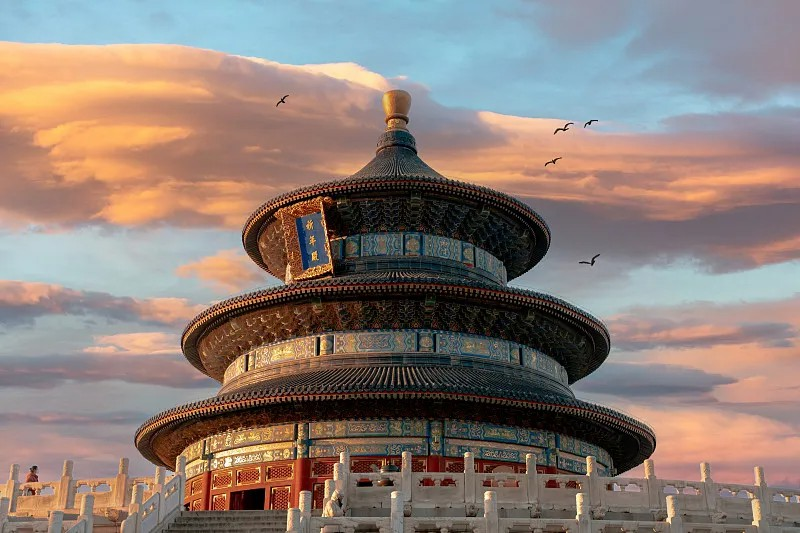Heaven: (133, 89, 658, 512)
